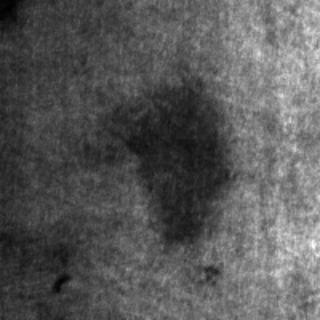patches: (116, 73, 230, 250)
